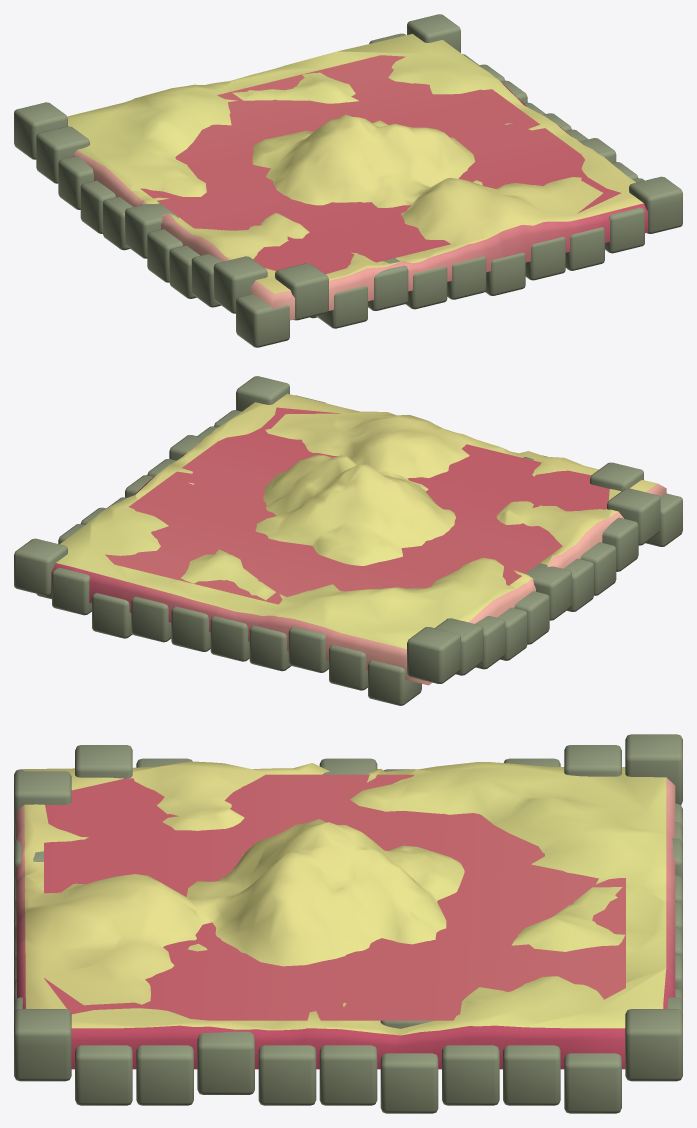
Rendered from Lake.fbx.
The picture shows the model from 3 angles, top to bottom: view 1: azimuth 30°, elevation 25°; view 2: azimuth 150°, elevation 25°; view 3: azimuth 270°, elevation 25°; orthographic projection. The views are drawn at different scales.
Visible parts, largest first — view 1: PP_Lake_Ground_04, PP_Lake_Ground_Water_04, Roundcube, Roundcube.010, Roundcube.001, Roundcube.011, Roundcube.020, Roundcube.019, Roundcube.015, Roundcube.003, Roundcube.009, Roundcube.002 (+12 smaller); view 2: PP_Lake_Ground_04, PP_Lake_Ground_Water_04, Roundcube.020, Roundcube.120, Roundcube.011, Roundcube.030, Roundcube.110, Roundcube.015, Roundcube.050, Roundcube.090, Roundcube.100, Roundcube.060 (+13 smaller); view 3: PP_Lake_Ground_04, PP_Lake_Ground_Water_04, Roundcube.010, Roundcube.120, Roundcube.113, Roundcube.115, Roundcube.116, Roundcube.114, Roundcube.111, Roundcube.119, Roundcube.112, Roundcube.118 (+6 smaller).
Part boxes in pixels (x1,y1,x2,y2): PP_Lake_Ground_04: (67, 34, 647, 320); PP_Lake_Ground_Water_04: (140, 55, 621, 274); Roundcube: (236, 294, 289, 347); Roundcube.010: (629, 176, 682, 233); Roundcube.001: (275, 263, 328, 320); Roundcube.011: (213, 256, 267, 313); Roundcube.020: (14, 102, 67, 159); Roundcube.019: (36, 126, 89, 183); Roundcube.015: (125, 203, 178, 258); Roundcube.003: (368, 258, 408, 310); Roundcube.009: (605, 207, 644, 253); Roundcube.002: (316, 285, 367, 328); PP_Lake_Ground_04: (51, 393, 666, 685); PP_Lake_Ground_Water_04: (105, 407, 609, 604); Roundcube.020: (407, 627, 460, 683); Roundcube.120: (14, 538, 67, 595); Roundcube.011: (607, 488, 660, 545); Roundcube.030: (368, 660, 421, 705); Roundcube.110: (52, 567, 91, 615); Roundcube.015: (525, 563, 571, 620); Roundcube.050: (288, 627, 328, 672); Roundcube.090: (131, 596, 171, 642); Roundcube.100: (92, 593, 132, 638); Roundcube.060: (249, 625, 290, 671); PP_Lake_Ground_04: (15, 761, 675, 1069); PP_Lake_Ground_Water_04: (44, 774, 625, 1020); Roundcube.010: (14, 1009, 71, 1081); Roundcube.120: (625, 1009, 682, 1081); Roundcube.113: (197, 1031, 254, 1094); Roundcube.115: (319, 1045, 377, 1105); Roundcube.116: (380, 1053, 438, 1113); Roundcube.114: (258, 1045, 316, 1105); Roundcube.111: (75, 1045, 132, 1105); Roundcube.119: (564, 1053, 621, 1113); Roundcube.112: (136, 1045, 193, 1105); Roundcube.118: (503, 1045, 560, 1105).
Bounding box in the file's own units: 1922 × 450 × 1884.
